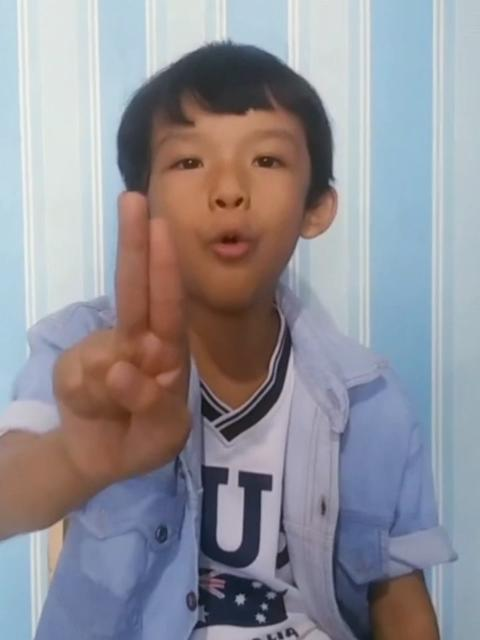U: (49, 184, 203, 488)
